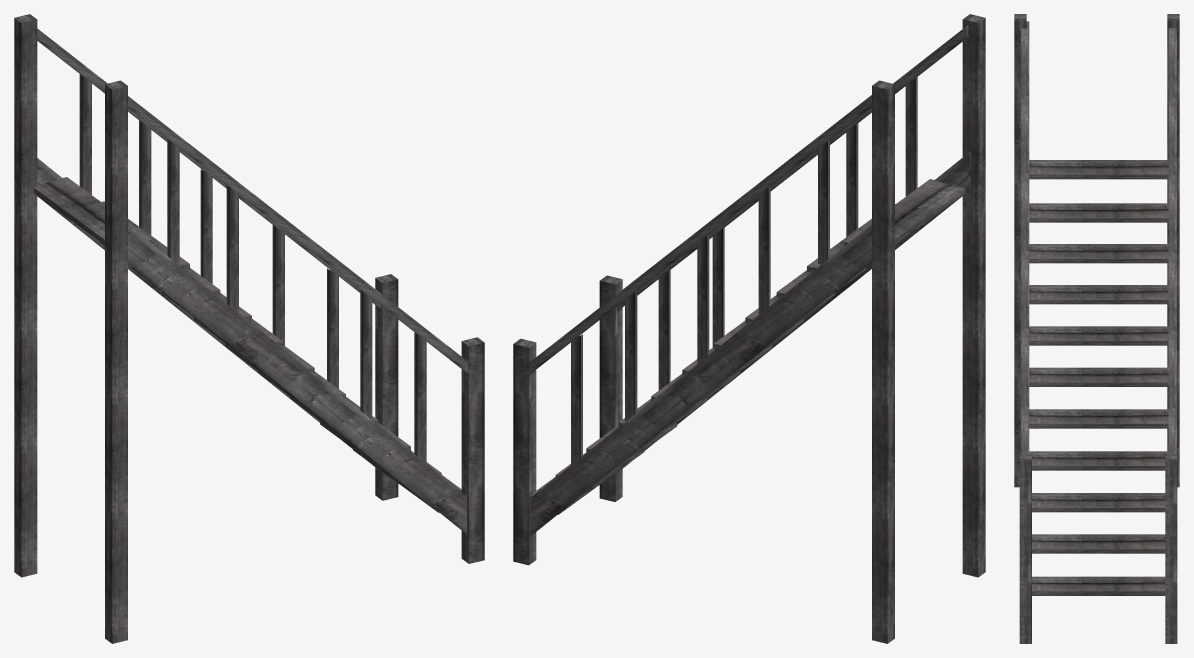
The model's file is v3_stairs2.dae.
3 renders of one model, left to right at view 1: azimuth 30°, elevation 25°; view 2: azimuth 150°, elevation 25°; view 3: azimuth 270°, elevation 25°, orthographic. The views are drawn at different scales.
Parts seen in each view (by area): view 1: woodPlanks; view 2: woodPlanks; view 3: woodPlanks.
Boxes of the visible parts, x1,y1,x2,y2 form: woodPlanks: [14, 14, 484, 643]; woodPlanks: [513, 14, 985, 643]; woodPlanks: [1014, 14, 1179, 643].
Bounding box in the file's own units: 2.03 × 2.91 × 0.9174.
